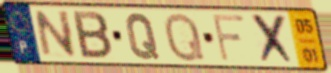B: (71, 9, 115, 62)
F: (210, 12, 248, 64)
N: (33, 9, 79, 60)
Q: (162, 10, 207, 64), (124, 12, 162, 62)
X: (249, 12, 299, 67)
